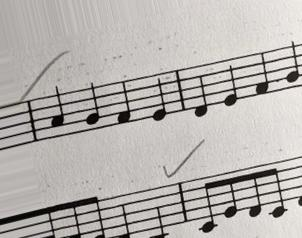A: (46, 84, 68, 137)
D: (191, 65, 212, 120)
E: (150, 73, 170, 122), (221, 58, 240, 109)
F: (111, 78, 134, 128), (250, 49, 272, 97)
G: (81, 81, 103, 132), (284, 39, 301, 91)
